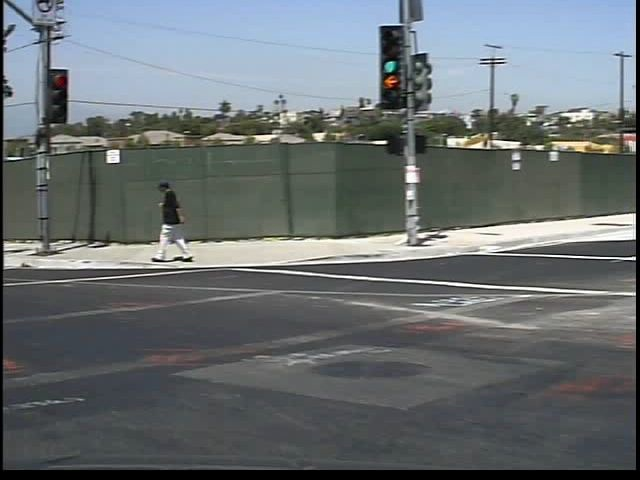person: (139, 176, 187, 280)
